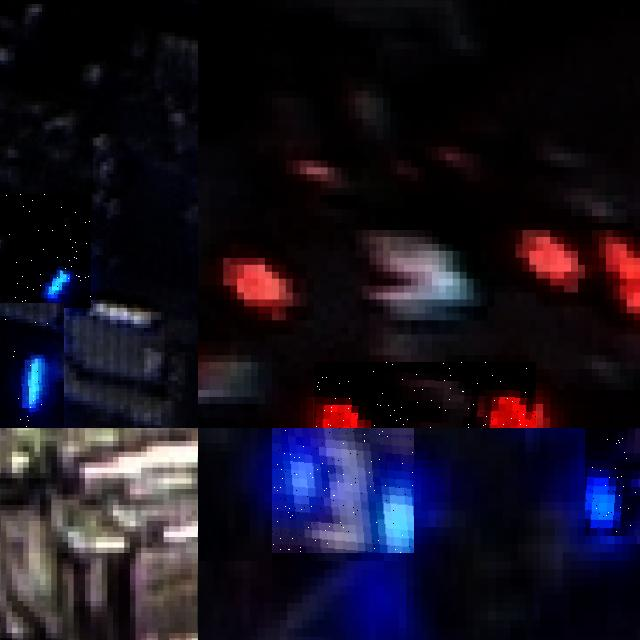B1: (0, 194, 91, 307), (0, 303, 64, 428)
B3: (272, 428, 413, 552), (584, 428, 640, 535)
R3: (313, 362, 536, 428)
